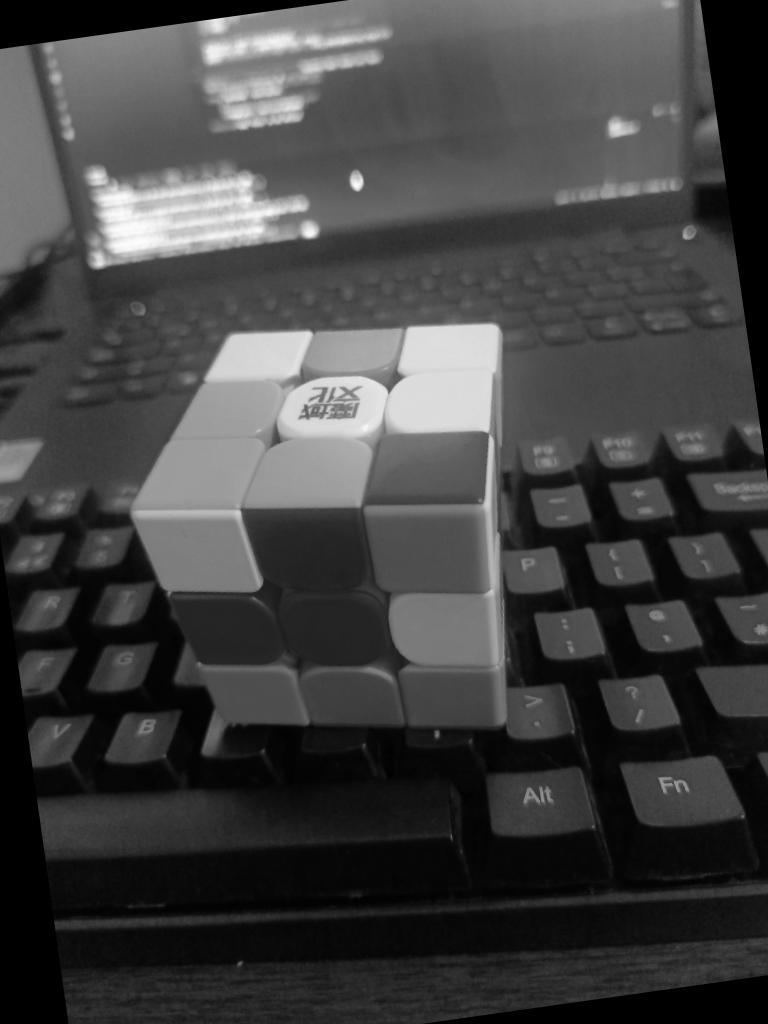rubik: (106, 292, 558, 774)
